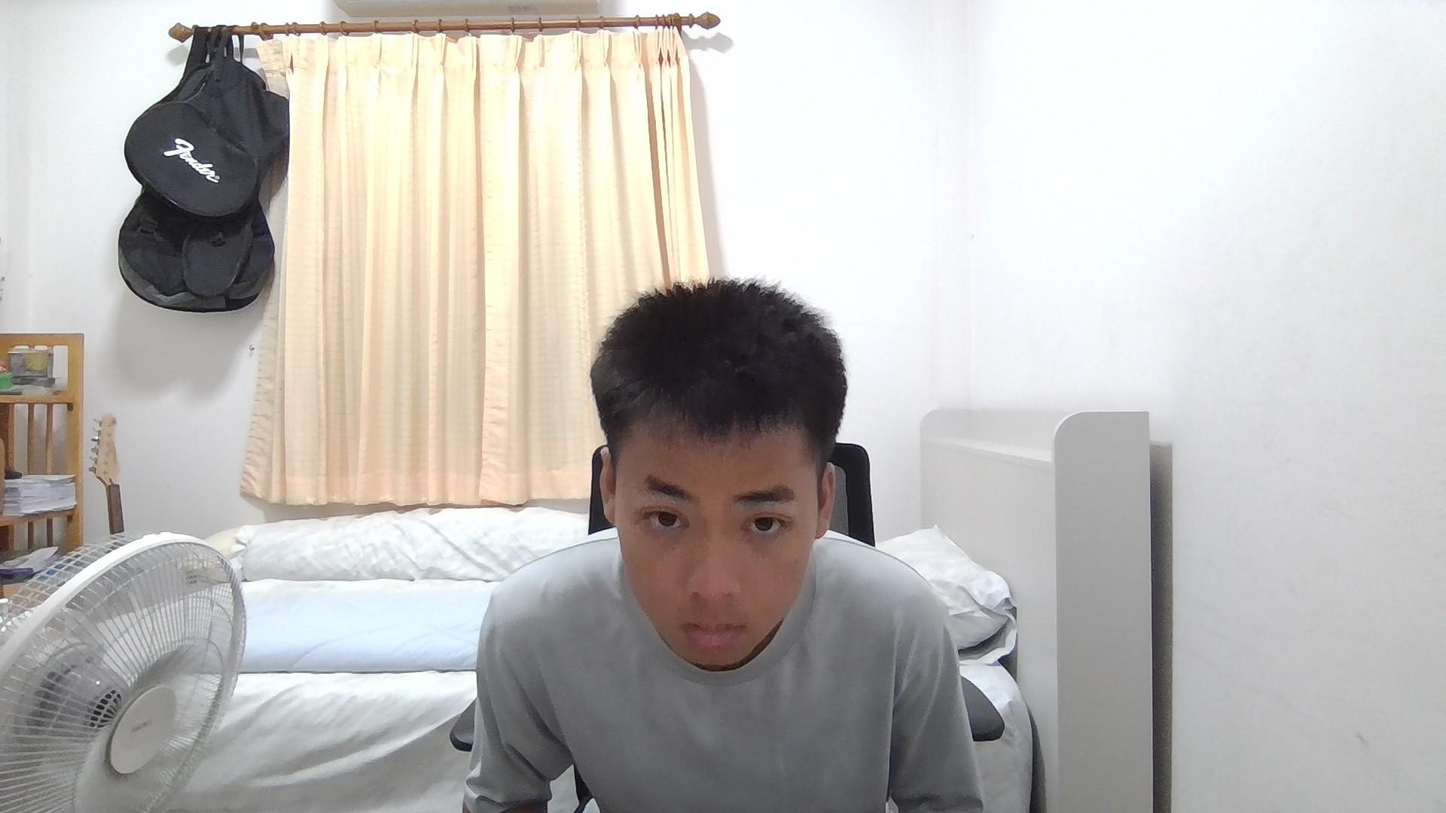BadPosture: (463, 279, 982, 812)
